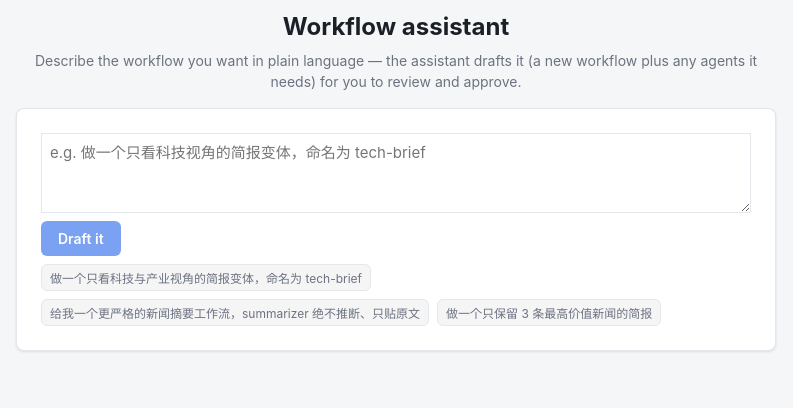
AssistantPage › surfaces a failed run as an error
In the text box named "describe the workflow you want": (396, 173) [41, 133, 751, 213], type "x"
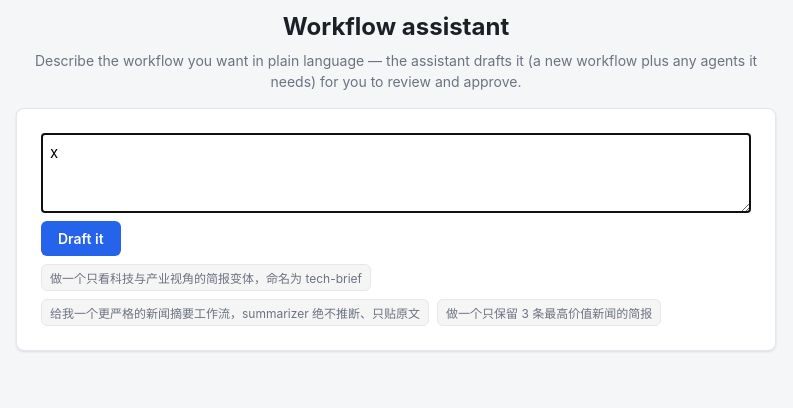
Click the button "Draft it": (81, 238) [41, 221, 121, 256]
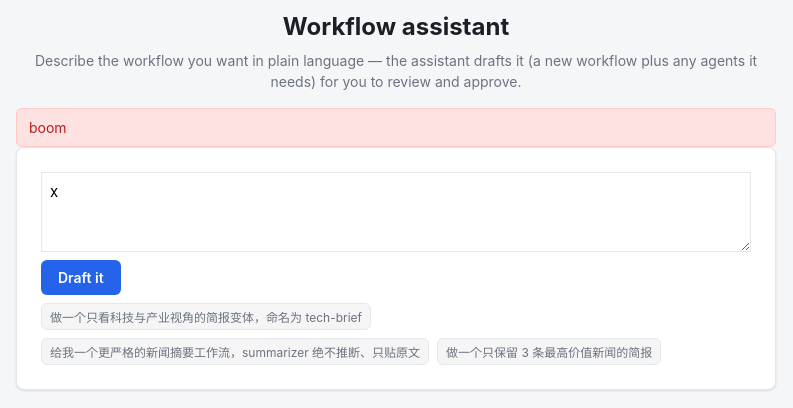
expect the text "boom" is shown: met, box [16, 108, 776, 147]
